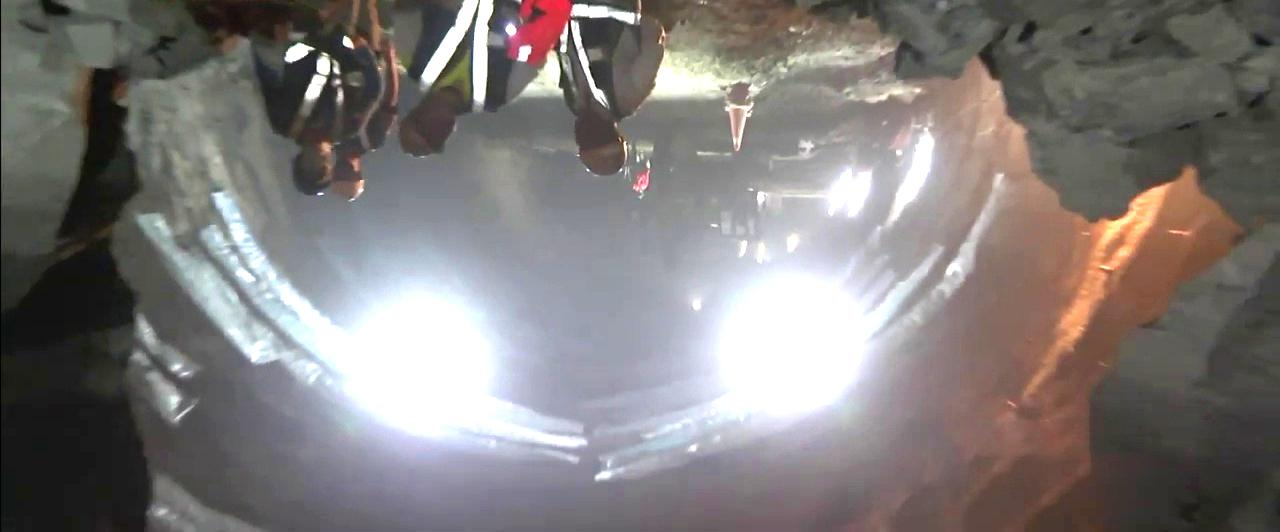helmet: (398, 95, 457, 159), (573, 109, 628, 176), (290, 146, 333, 196), (330, 153, 366, 203)
